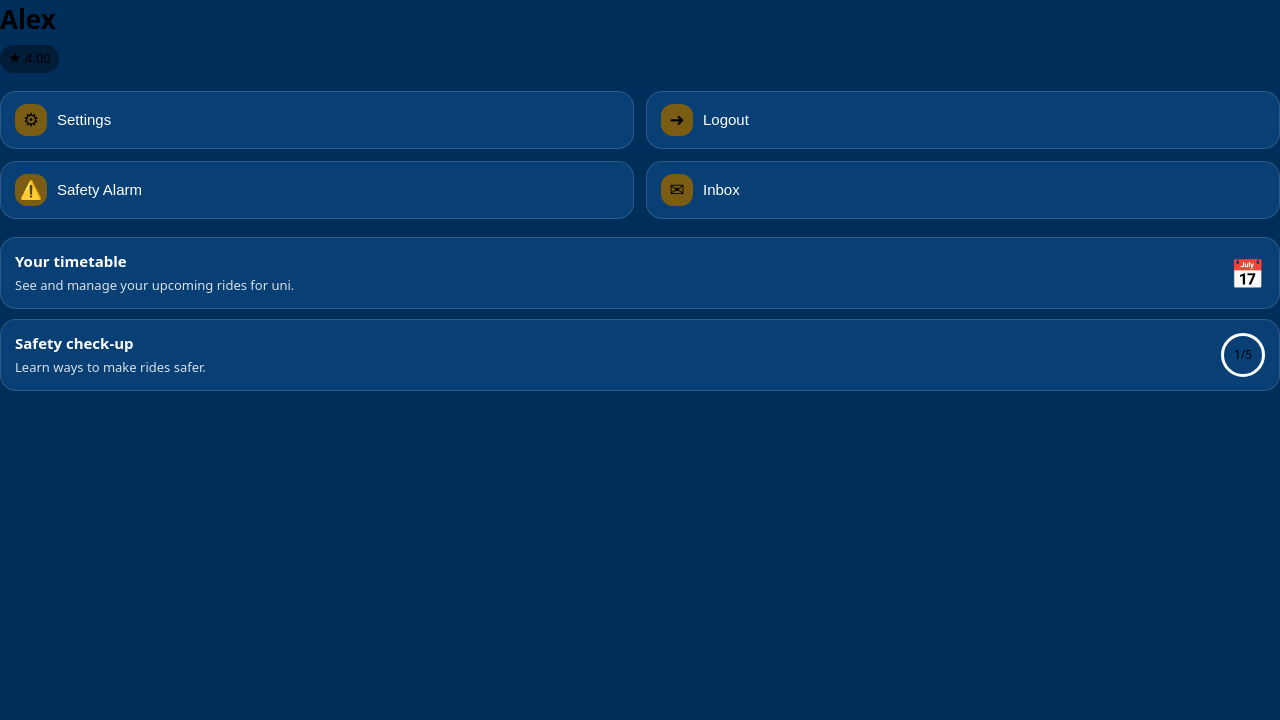
AccountPage Component › disables trusted contact button when no trusted contacts exist
Click the text "Safety Alarm": (100, 190) [57,181,142,198]
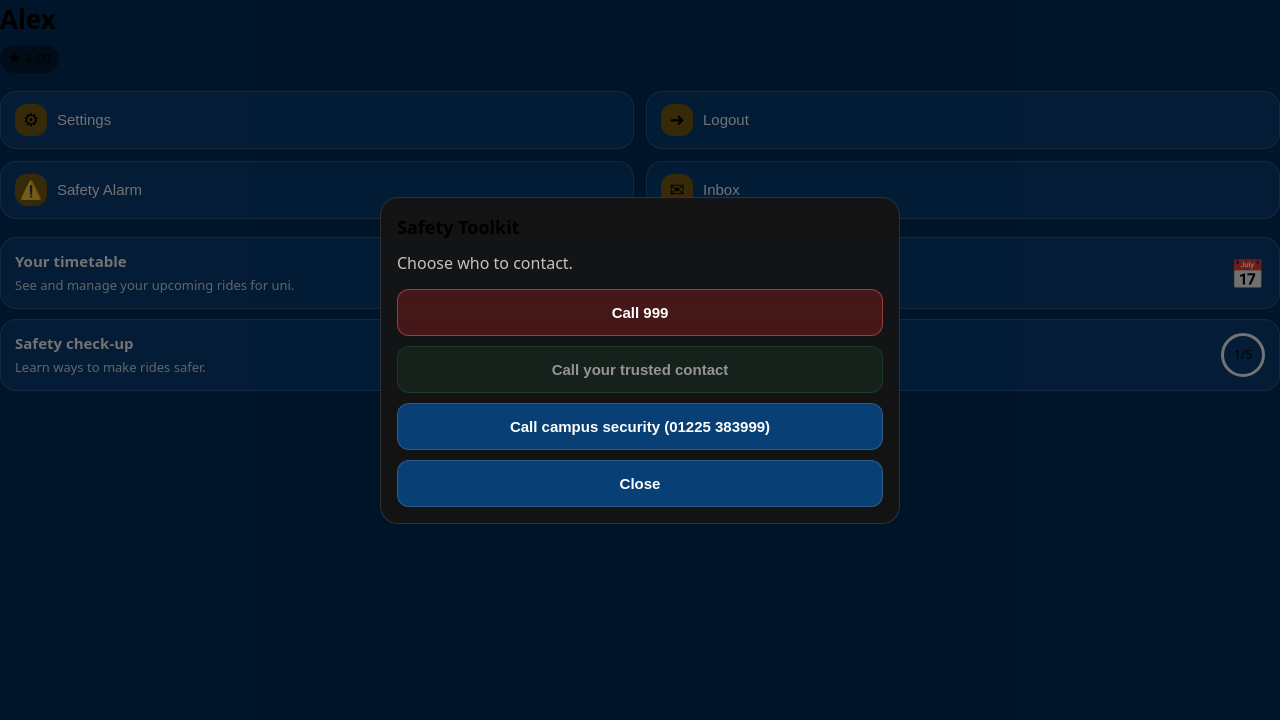
Expected: the button "Call your trusted contact" is disabled, [397,346,883,392]
